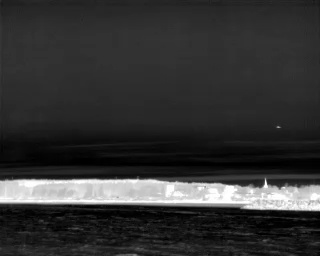BIRD: (275, 123, 282, 131)
